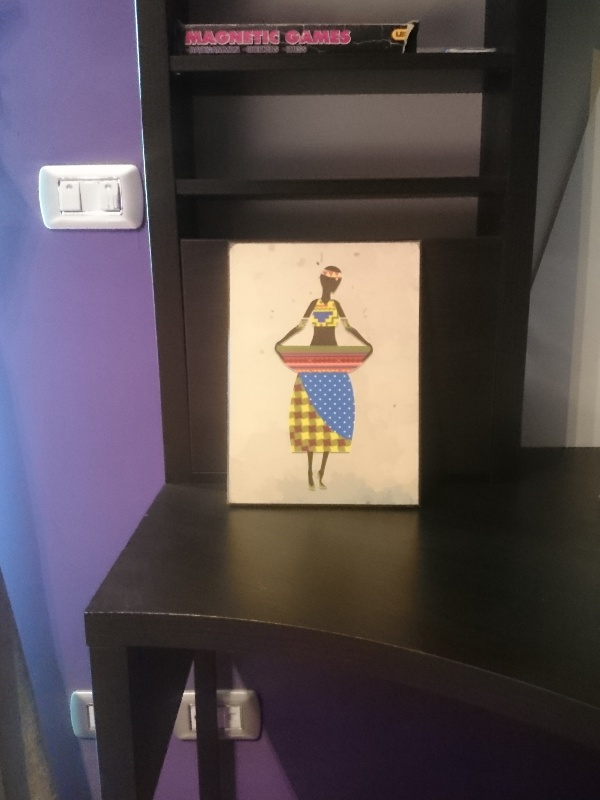my image: (228, 240, 419, 504)
